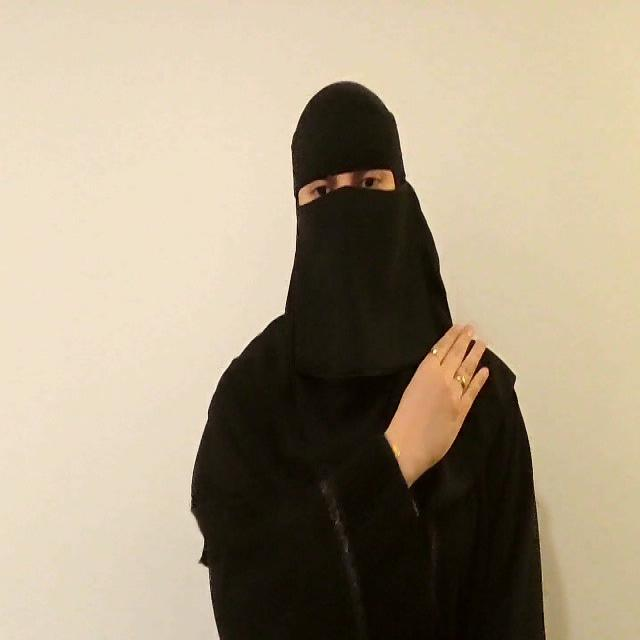result: (384, 321, 490, 487)
